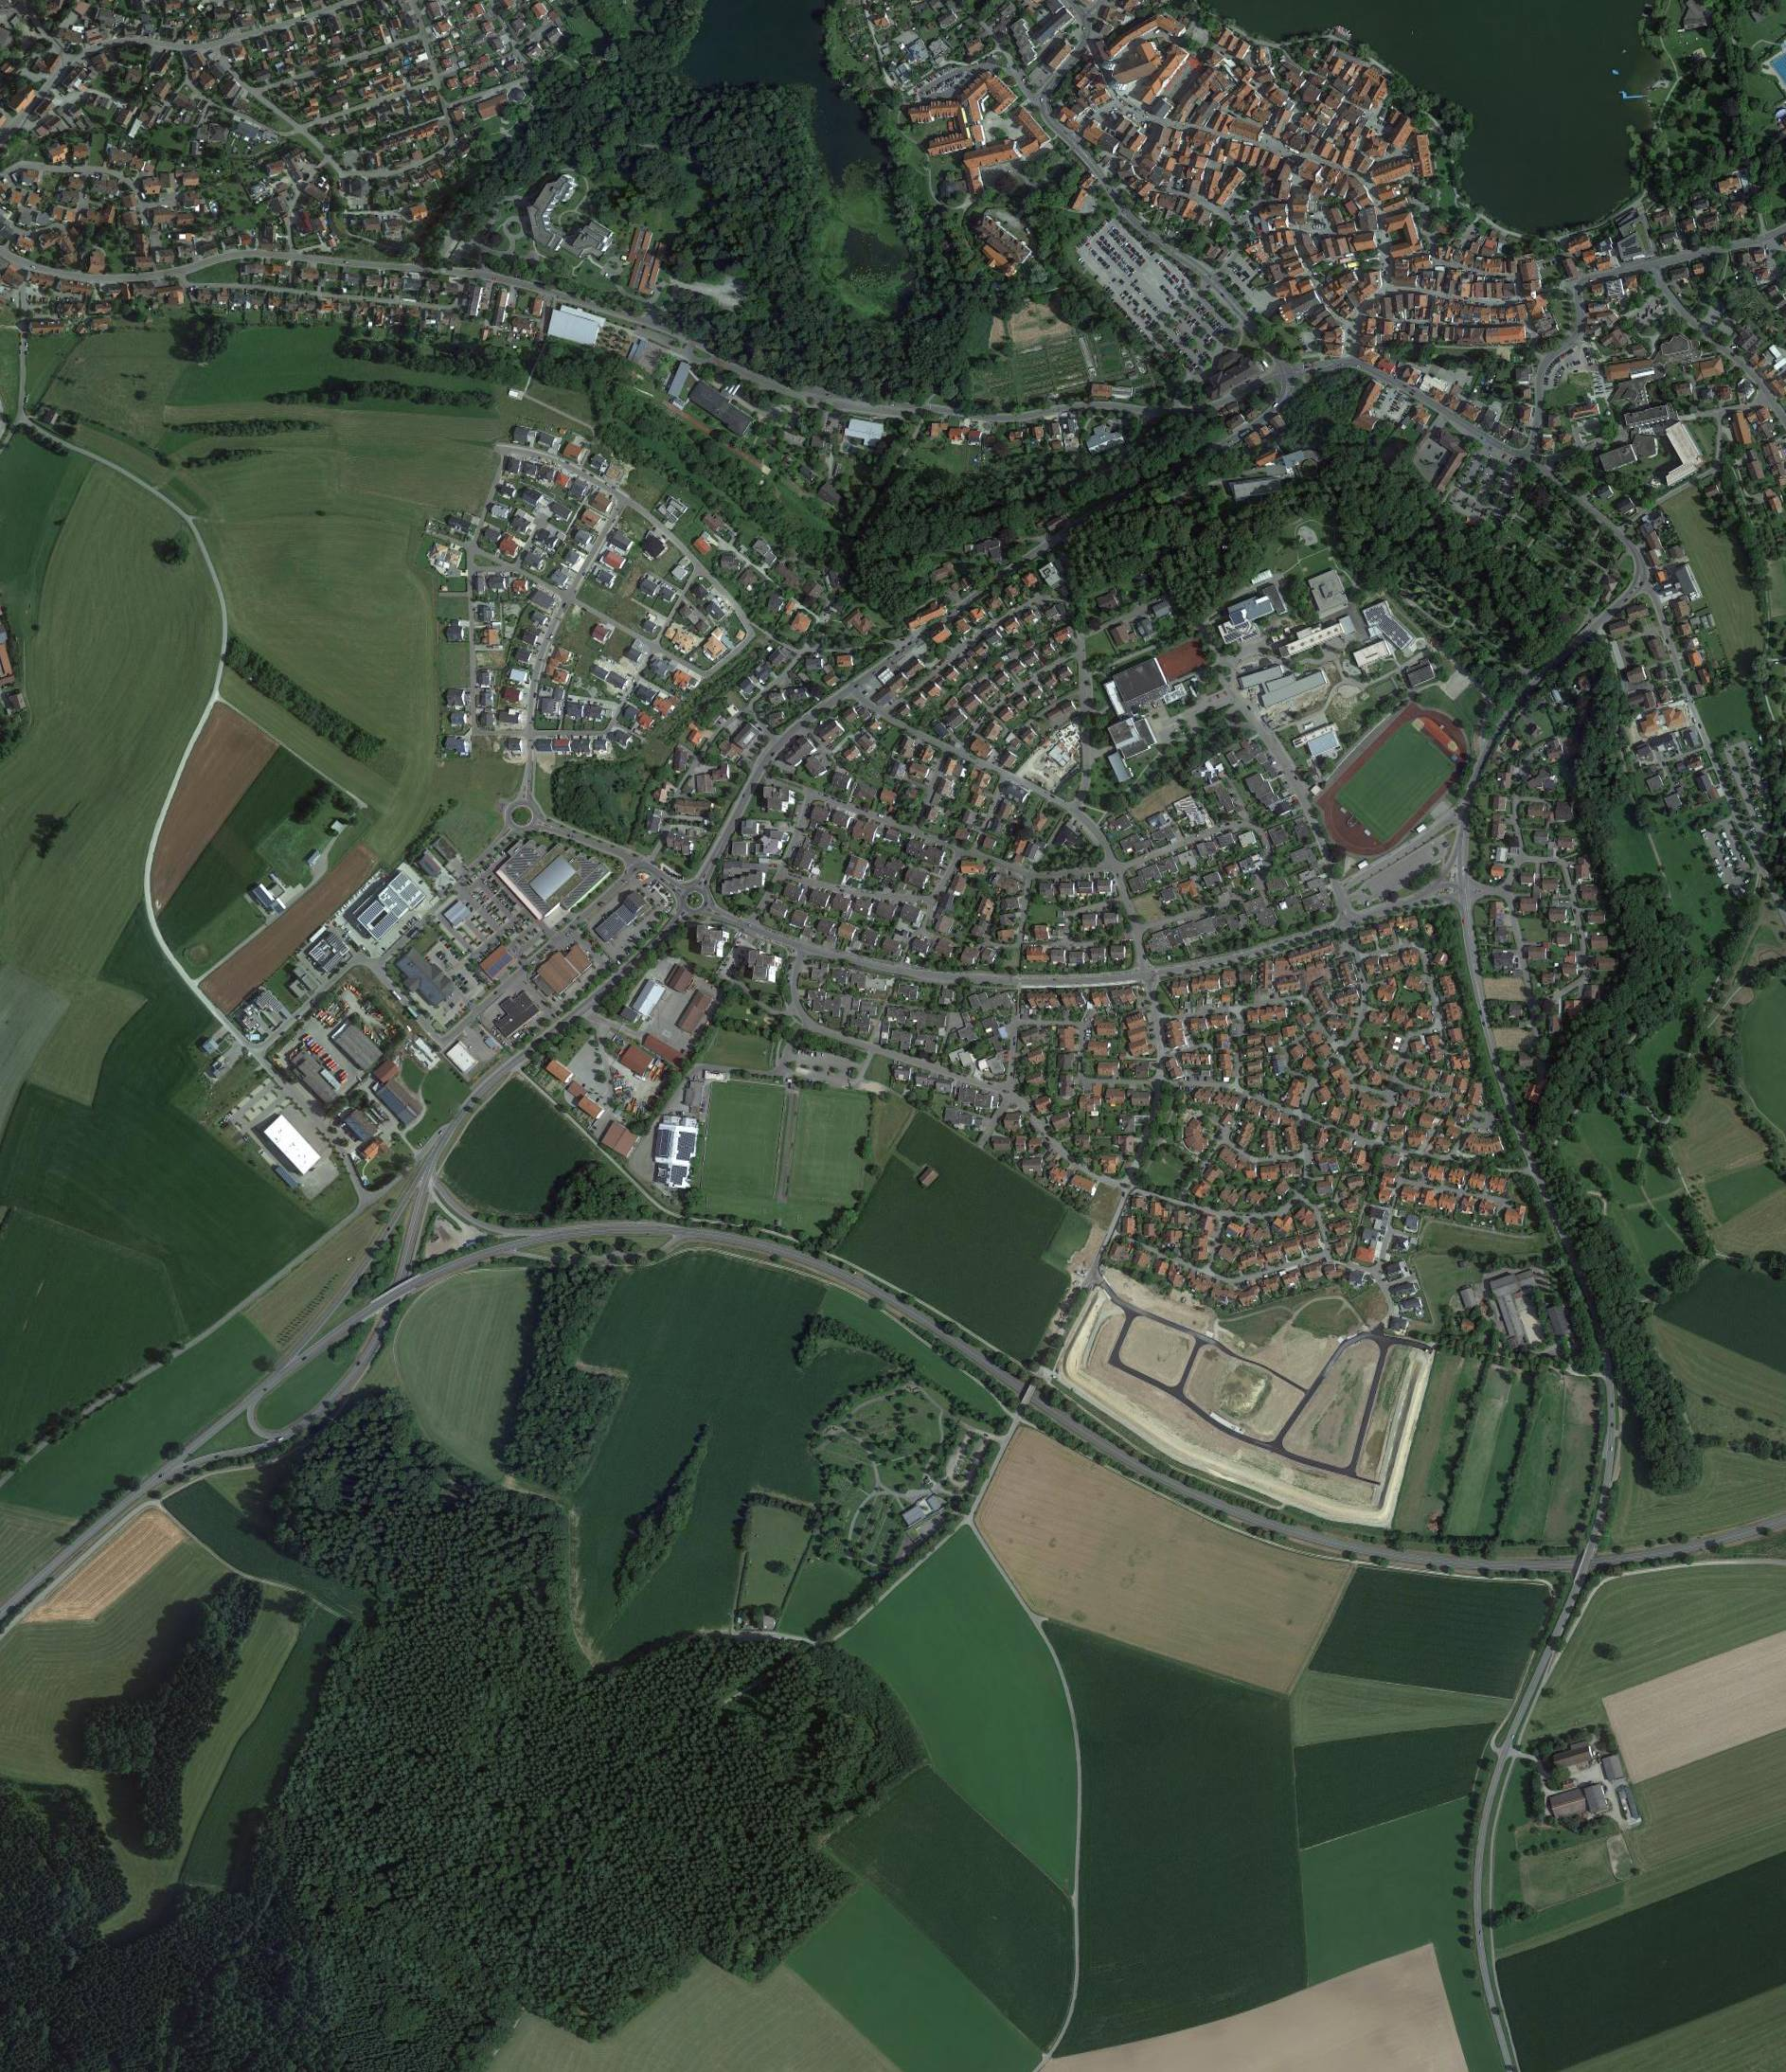ground track field: (1303, 692, 1478, 870)
roundabout: (506, 800, 539, 832), (680, 881, 710, 916)
soccer ball field: (1330, 717, 1457, 844)
